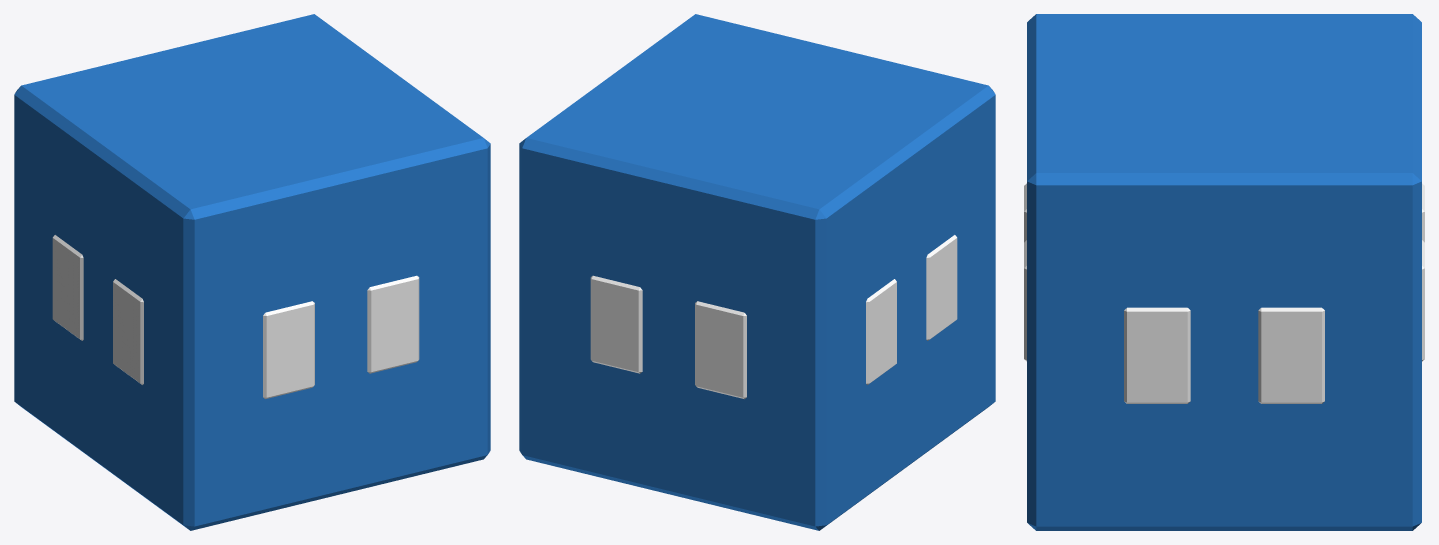
The model's file is block_blue.glb.
3 renders of one model, left to right at view 1: azimuth 30°, elevation 25°; view 2: azimuth 150°, elevation 25°; view 3: azimuth 270°, elevation 25°, orthographic. The views are drawn at different scales.
Visible parts, largest first — view 1: block_blue; view 2: block_blue; view 3: block_blue.
Boxes of the visible parts, box(x1,y1,x2,y2) form: block_blue: box(14, 14, 490, 530); block_blue: box(519, 14, 995, 530); block_blue: box(1024, 14, 1424, 530).
Size of the model in its own units: 0.264 by 0.26 by 0.264.
